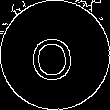O_N: (31, 28, 79, 82)
